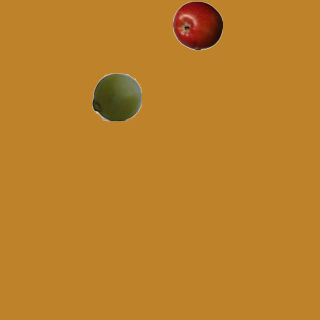Apple Braeburn: (172, 0, 222, 50)
Grape White 4: (91, 71, 141, 121)
